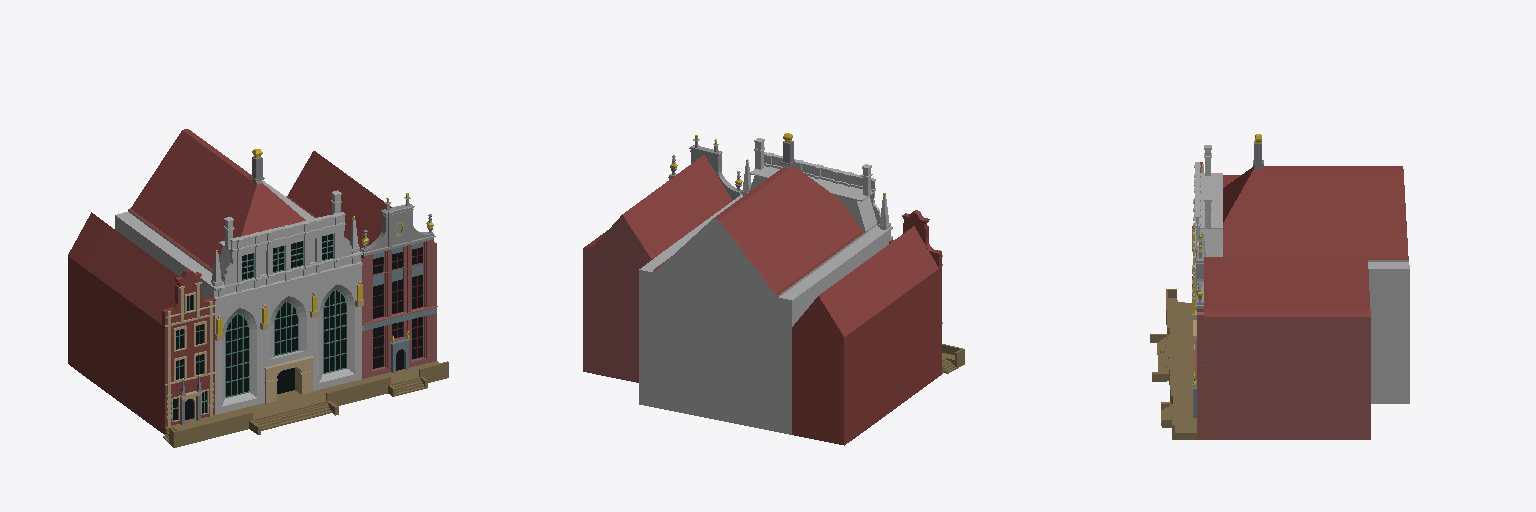
File: renaissanceTownHouse.obj
3 renders of one model, left to right at view 1: azimuth 30°, elevation 25°; view 2: azimuth 150°, elevation 25°; view 3: azimuth 270°, elevation 25°, orthographic.
Visible parts, largest first — view 1: Artus_Court_Dwor_artusa_1_1000; view 2: Artus_Court_Dwor_artusa_1_1000; view 3: Artus_Court_Dwor_artusa_1_1000.
Part boxes in pixels (bbox=[...]): Artus_Court_Dwor_artusa_1_1000: bbox=[68, 129, 448, 447]; Artus_Court_Dwor_artusa_1_1000: bbox=[583, 133, 964, 445]; Artus_Court_Dwor_artusa_1_1000: bbox=[1150, 134, 1409, 439].
Size of the model in its own units: 5.81 by 4.63 by 4.69.